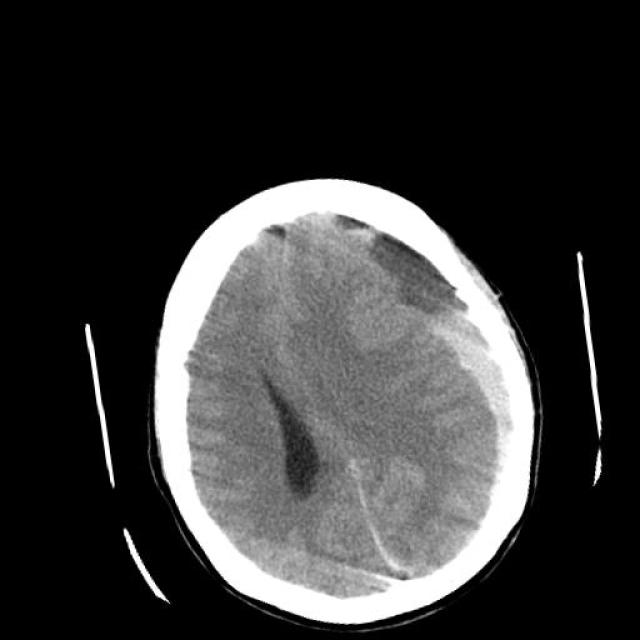Subdural: (352, 190, 552, 550)
